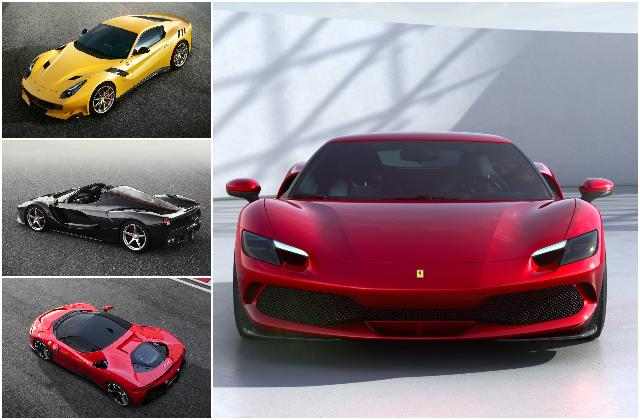ferrari: (226, 132, 616, 346), (20, 13, 192, 121), (28, 302, 185, 410), (17, 182, 203, 254)
